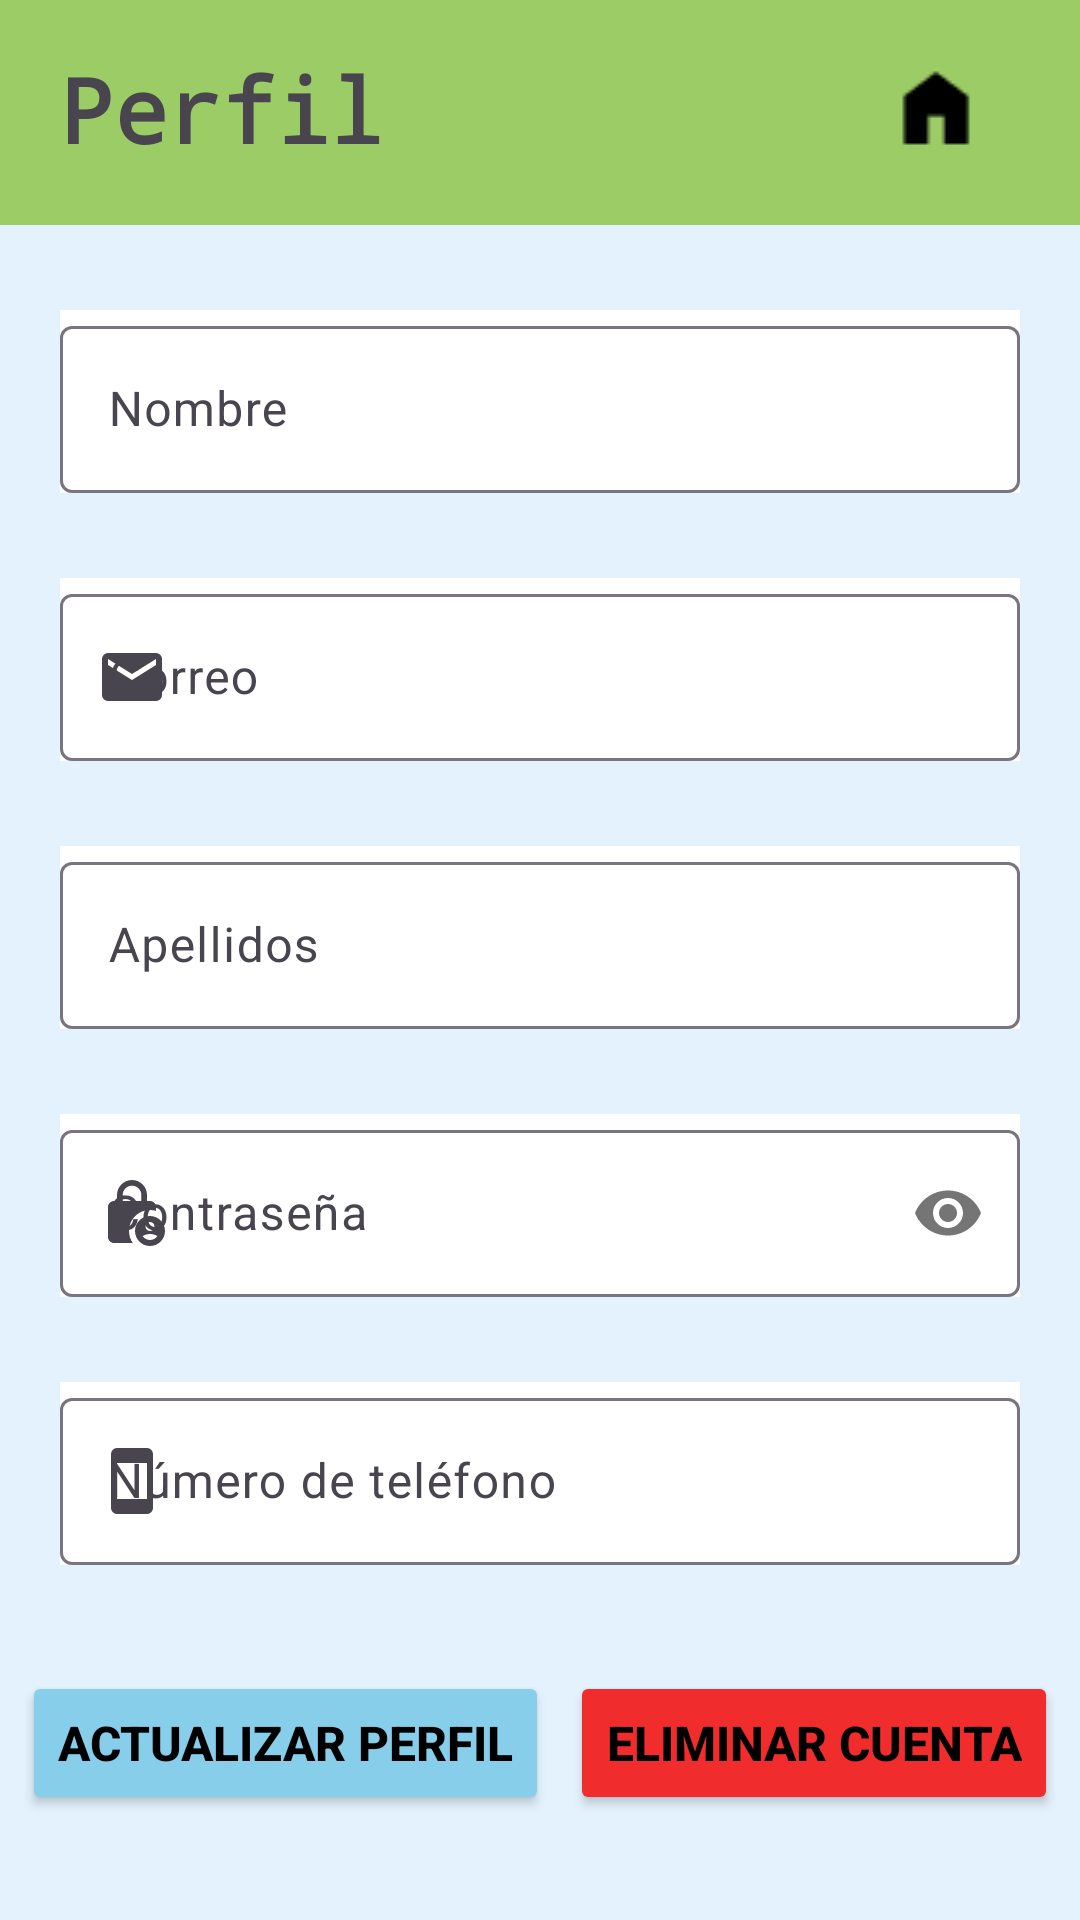

Named icons in this screenshot (1080px x 1920px) and their bounding boxes, (x1, y1, x2, y2):
home: (902, 71, 970, 145)
